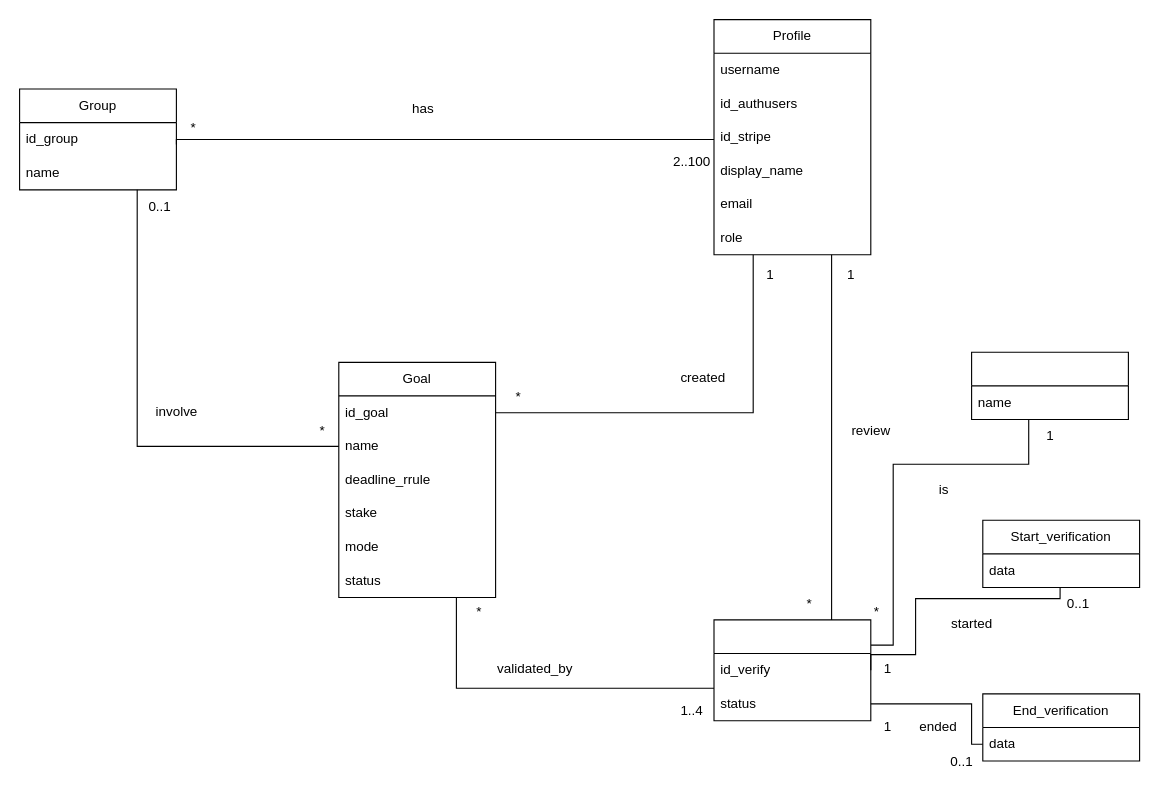
Image size: 1159x799. Some labels were removed from this diagram. The box of each missing label's shape, as (x1, y1, x2, y2) in pixels:
Type_verification: (970, 351, 1128, 419)
Verification_log: (713, 619, 871, 721)
